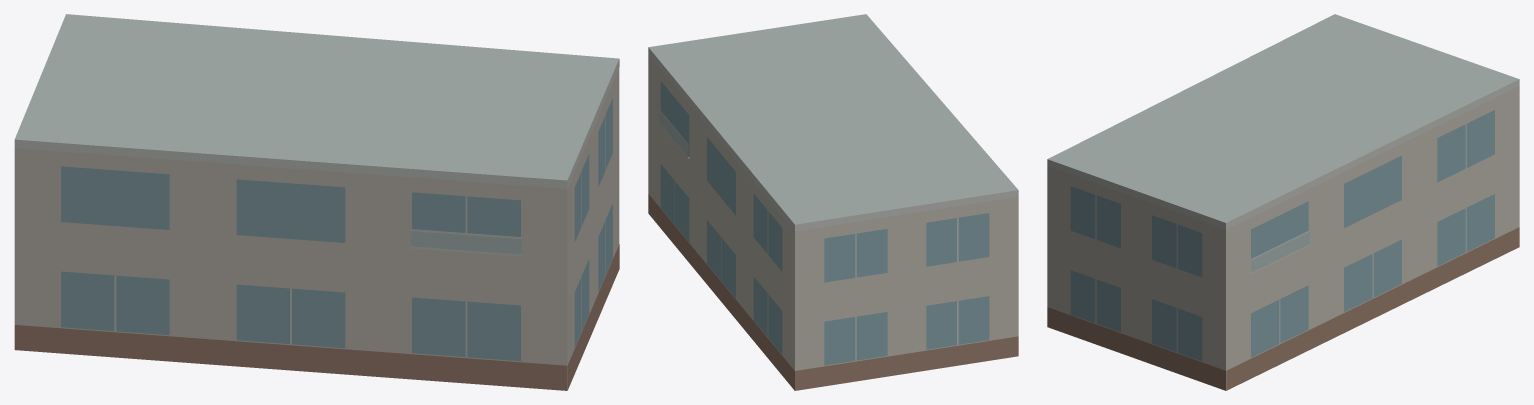
Rendered from survey-upis-32946777.glb.
3 views of the same model, side by side, from view 1: azimuth 30°, elevation 25°; view 2: azimuth 150°, elevation 25°; view 3: azimuth 270°, elevation 25° (orthographic). The views are drawn at different scales.
Visible parts, largest first — view 1: survey-upis-32946777.tmp; view 2: survey-upis-32946777.tmp; view 3: survey-upis-32946777.tmp.
Boxes of the visible parts, x1,y1,x2,y2 form: survey-upis-32946777.tmp: [14, 14, 619, 390]; survey-upis-32946777.tmp: [648, 14, 1018, 390]; survey-upis-32946777.tmp: [1047, 14, 1519, 390].
Size of the model in its own units: 16.29 by 6.1 by 15.56.
